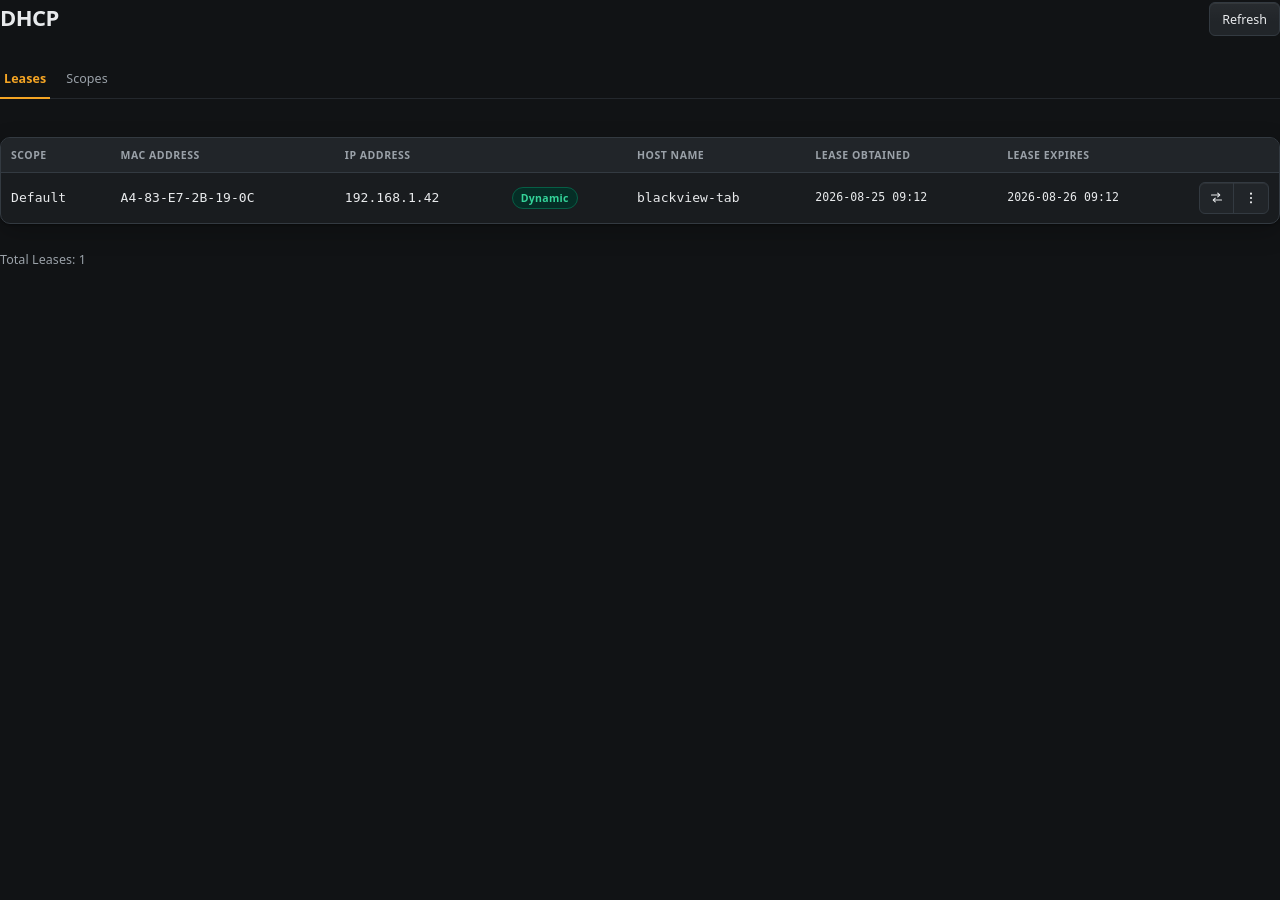
Test case: DHCP › Leases › if removing fails, the alert comes out INSIDE the modal and the row is still there
This screenshot has width=1280, height=900.
Check: the text "192.168.1.42" is shown, box left=335, top=172, right=502, bottom=223
Click the button named "Actions for " at (1251, 198), box left=1234, top=183, right=1268, bottom=213
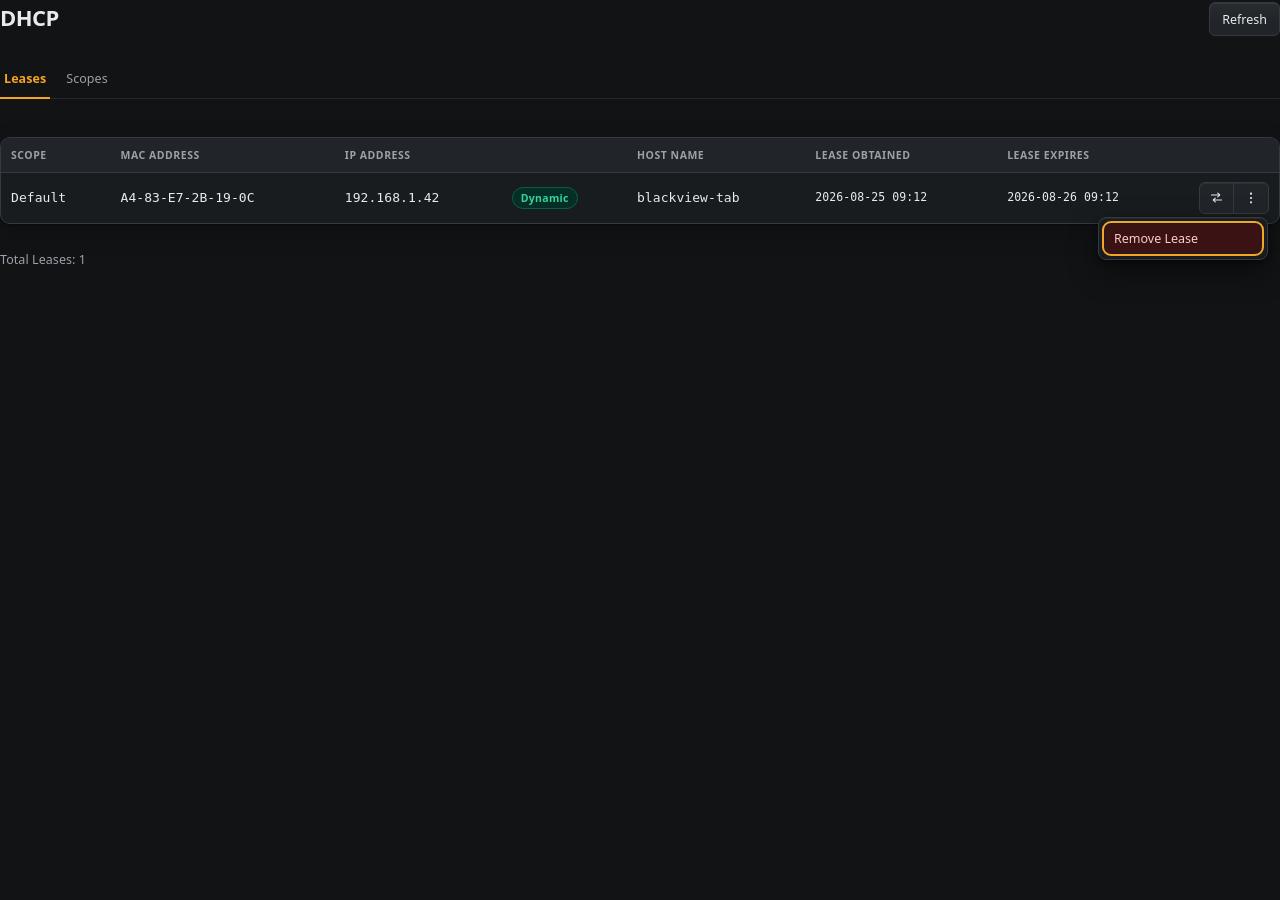
Click the menu item "Remove Lease" at (1183, 238), box left=1105, top=224, right=1261, bottom=253
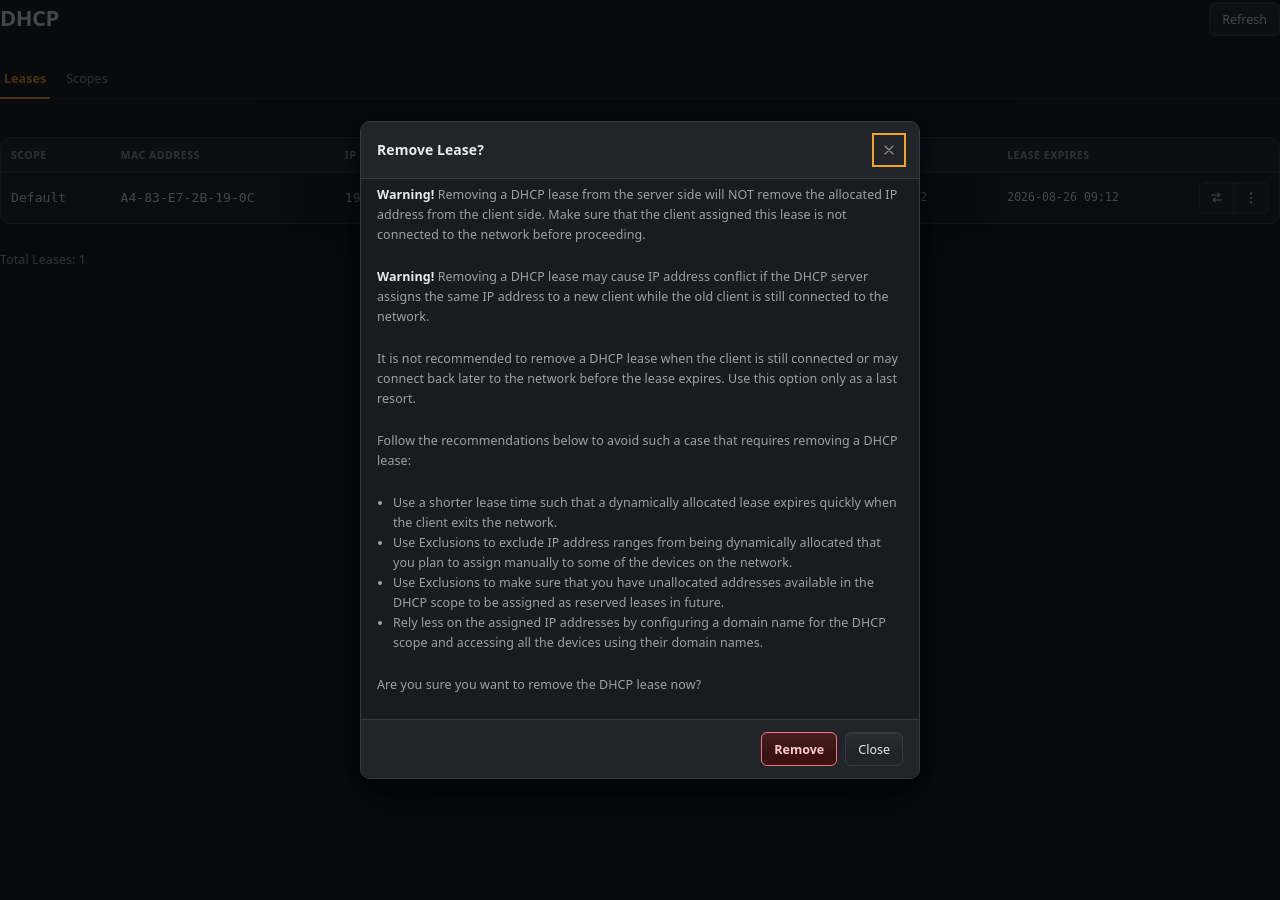
Click the button "Remove" at (799, 749), box left=761, top=732, right=837, bottom=766
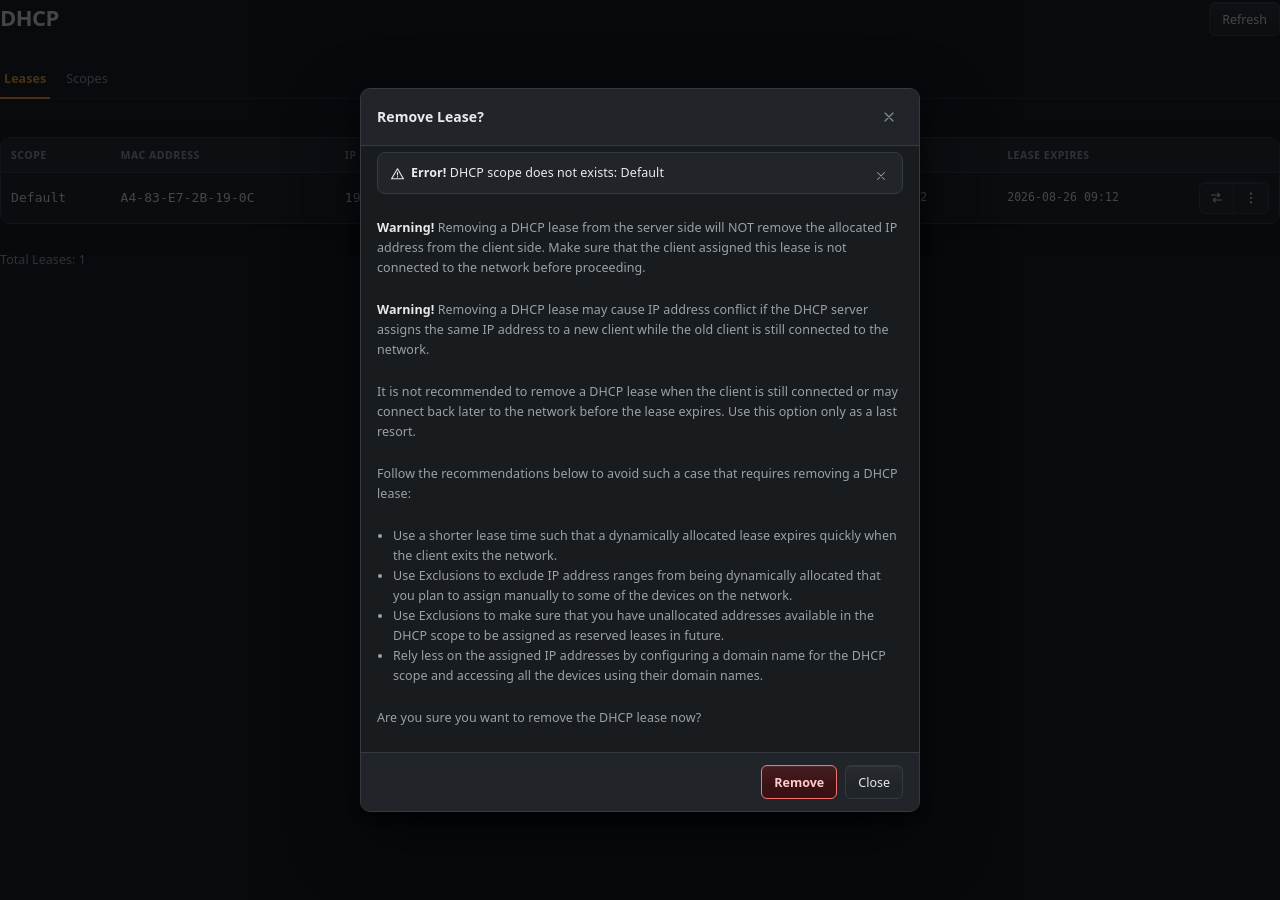
Check: the text "192.168.1.42" is shown, box left=335, top=172, right=502, bottom=223
Check: the text "DHCP scope does not exists: Default" is shown, box left=450, top=164, right=664, bottom=181
